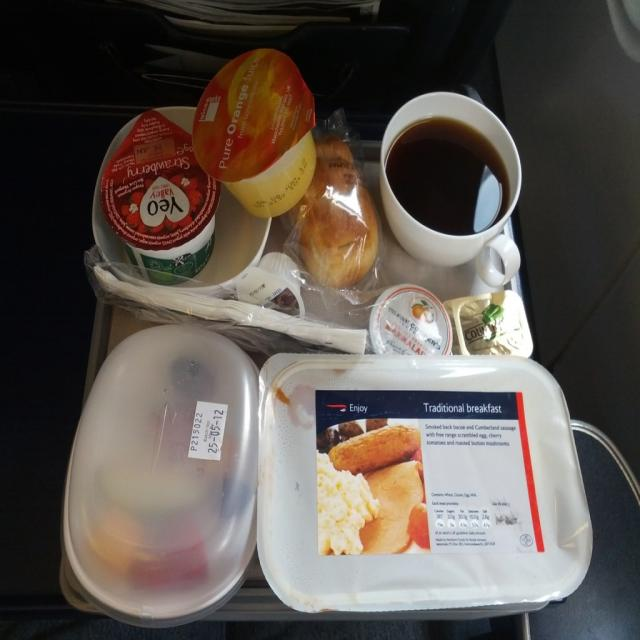Coffee: (378, 80, 522, 277)
Tea: (382, 118, 507, 234)
